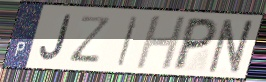H: (133, 14, 189, 71)
I: (115, 15, 140, 68)
J: (38, 13, 73, 62)
N: (205, 18, 259, 76)
P: (170, 16, 220, 72)
Z: (69, 15, 114, 65)
